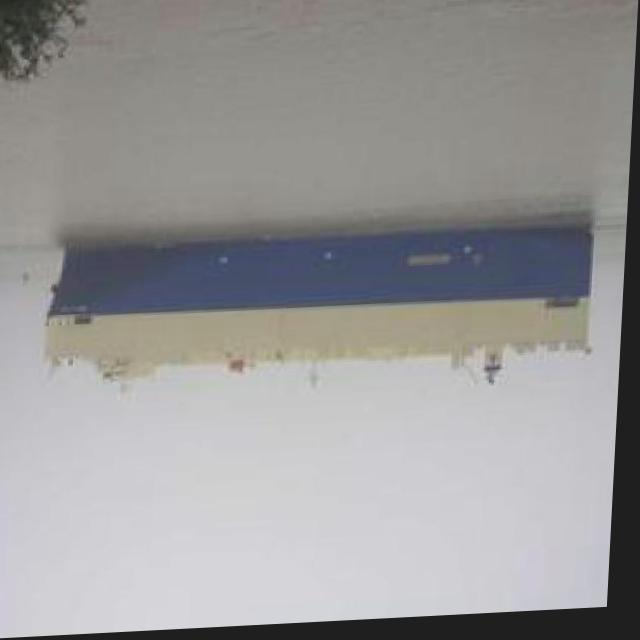ship2: (47, 227, 597, 391)
